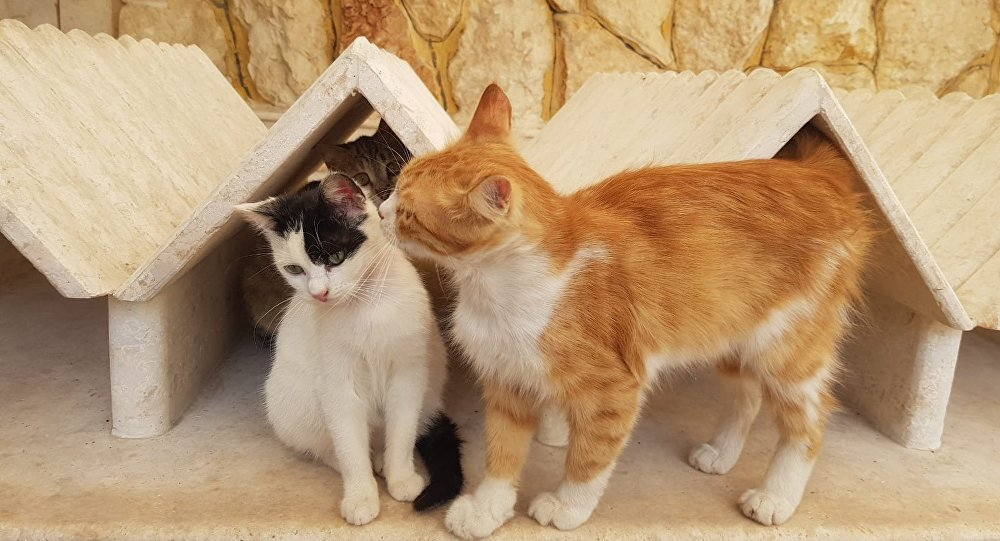cat: (249, 184, 457, 507)
